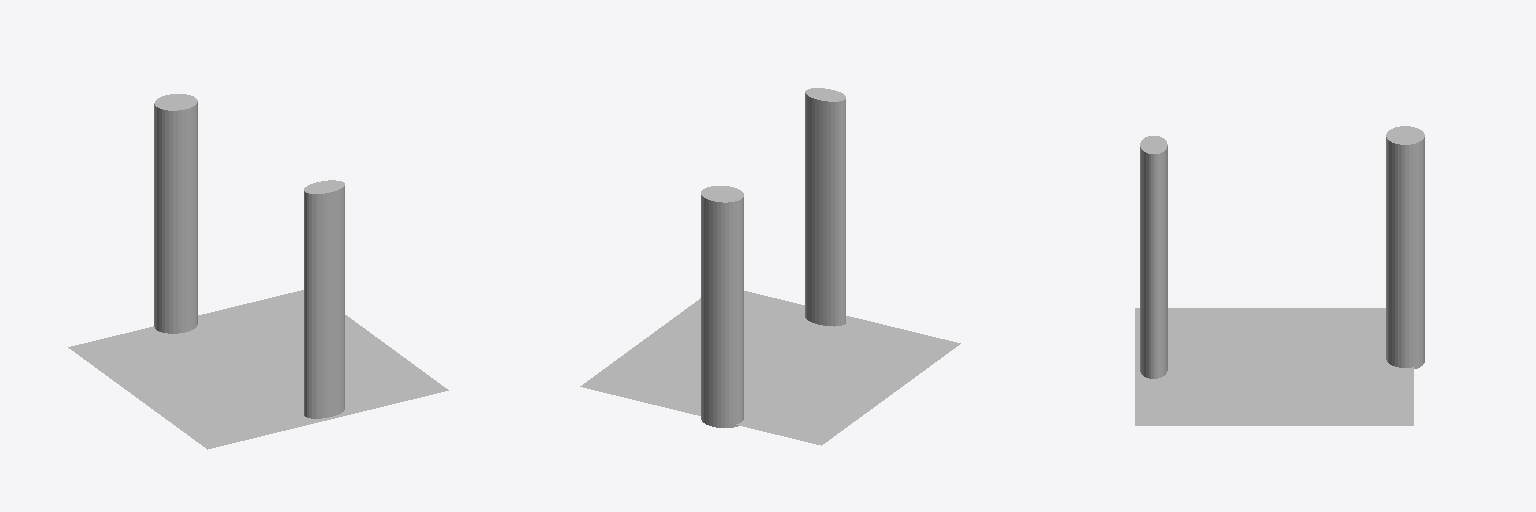
File: route.obj
3 views of the same model, side by side, from view 1: azimuth 30°, elevation 25°; view 2: azimuth 150°, elevation 25°; view 3: azimuth 270°, elevation 25° (orthographic).
Parts seen in each view (by area): view 1: Mesh.001_Plane, Mesh_Cylinder, Mesh.002_Cylinder.001; view 2: Mesh.001_Plane, Mesh_Cylinder, Mesh.002_Cylinder.001; view 3: Mesh.001_Plane, Mesh_Cylinder, Mesh.002_Cylinder.001.
Part boxes in pixels (bbox=[...]): Mesh.001_Plane: bbox=[68, 290, 448, 449]; Mesh_Cylinder: bbox=[154, 94, 197, 333]; Mesh.002_Cylinder.001: bbox=[304, 180, 344, 418]; Mesh.001_Plane: bbox=[580, 291, 960, 445]; Mesh_Cylinder: bbox=[701, 186, 743, 427]; Mesh.002_Cylinder.001: bbox=[805, 88, 845, 326]; Mesh.001_Plane: bbox=[1135, 308, 1413, 425]; Mesh_Cylinder: bbox=[1386, 126, 1424, 368]; Mesh.002_Cylinder.001: bbox=[1140, 136, 1167, 378].
Size of the model in its own units: 2 by 1.8 by 2.07.